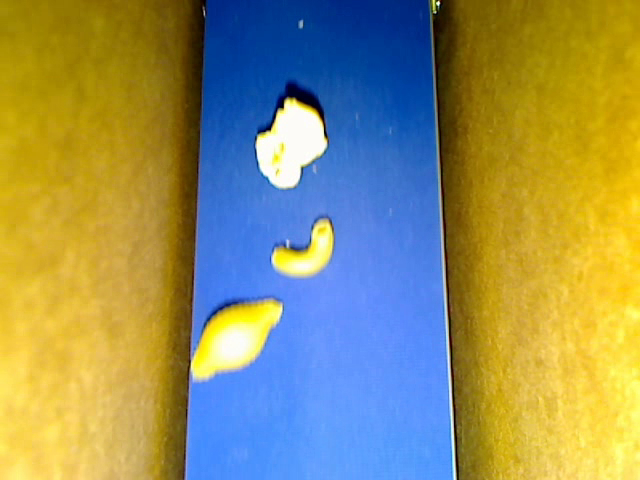elbow: (270, 216, 335, 278)
shell: (191, 297, 284, 379)
